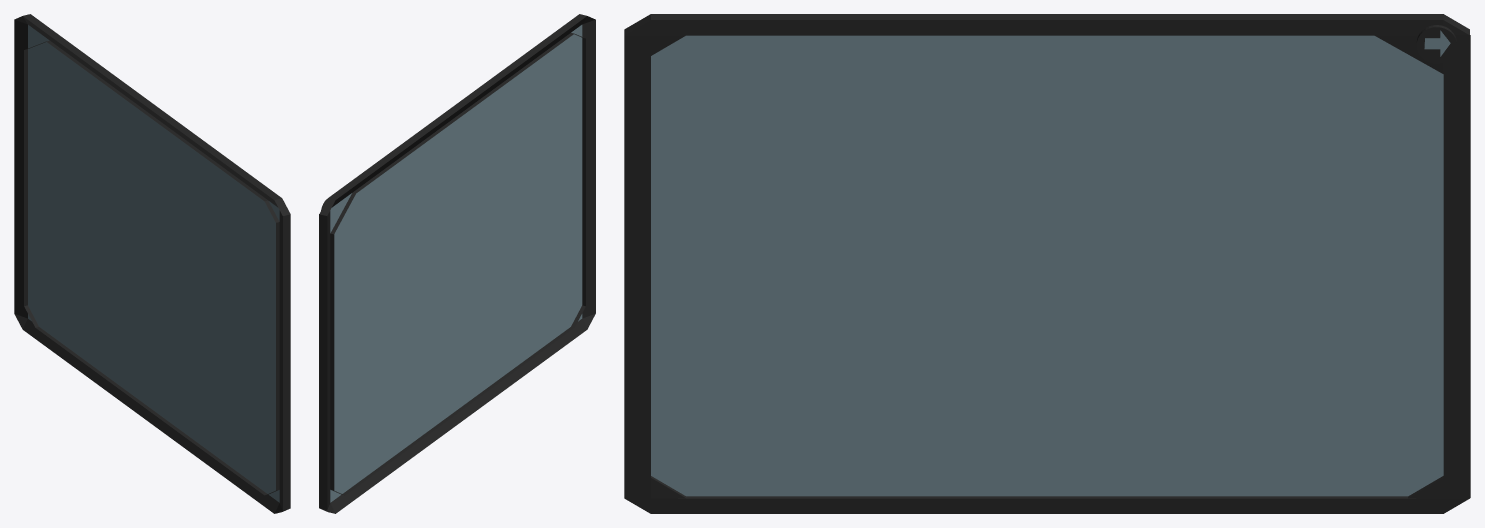
The model's file is tvnascar.fbx.
3 views of the same model, side by side, from view 1: azimuth 30°, elevation 25°; view 2: azimuth 150°, elevation 25°; view 3: azimuth 270°, elevation 25° (orthographic). The views are drawn at different scales.
Visible parts, largest first — view 1: Circle; view 2: Circle; view 3: Circle.
Part boxes in pixels (x1,y1,x2,y2): Circle: [14, 14, 290, 513]; Circle: [319, 14, 595, 513]; Circle: [624, 14, 1470, 513].
Bounding box in the file's own units: 18.8 × 503 × 781.
